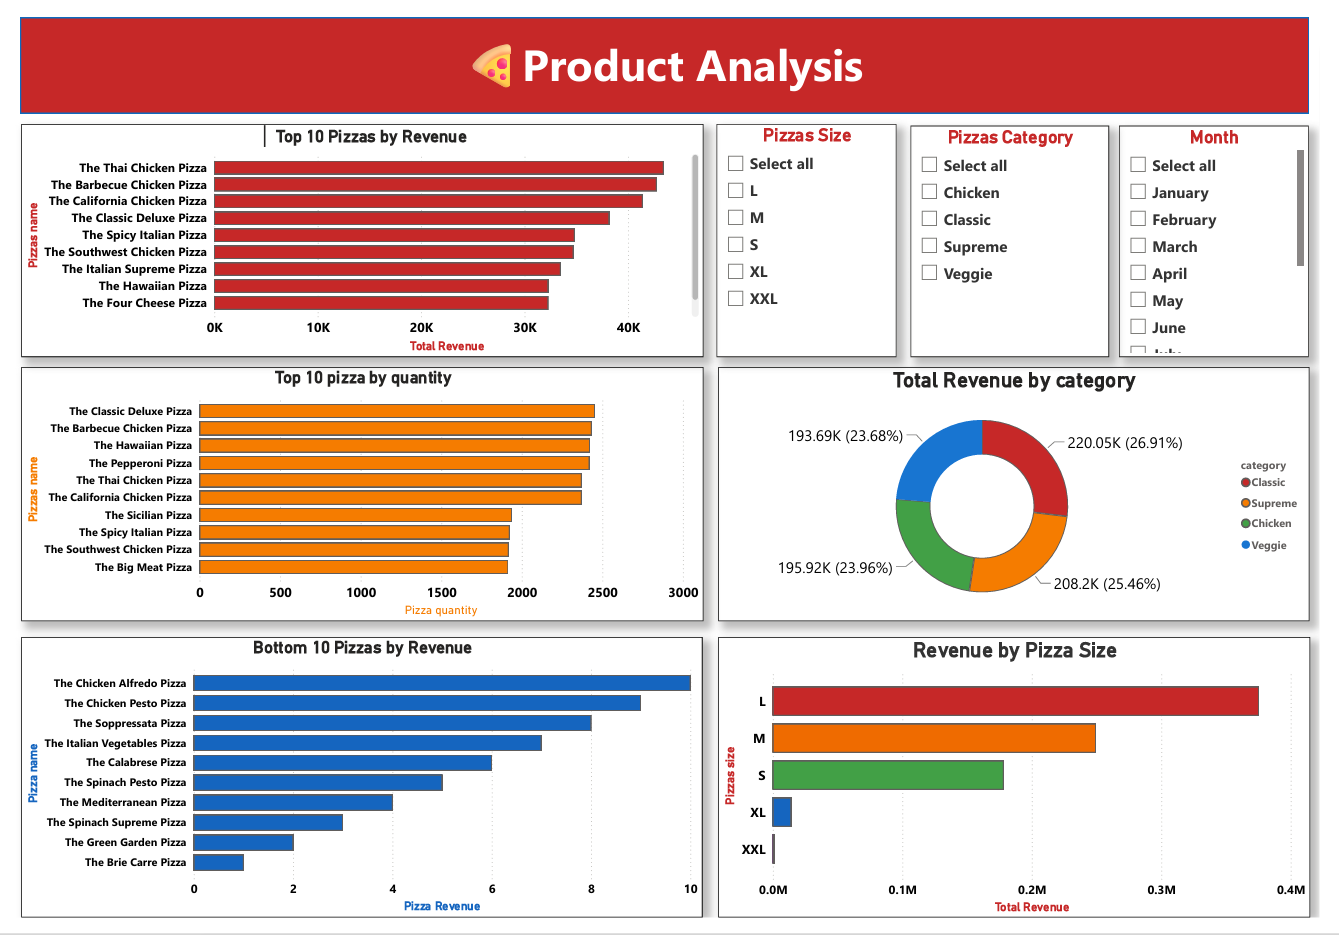

The dashboard page shown, as its layout file describes it:
{"tool":"powerbi","page":{"name":"Product Analysis","canvas":[1600,1100],"ordinal":1},"visuals":[{"type":"shape","box":[11.7,0,1575,116.7],"z":0},{"type":"textbox","box":[201.3,14.7,1193,86],"z":1000},{"type":"clusteredBarChart","title":"│ Top 10 Pizzas by Revenue ","fields":{"Y":["order_details.Total Revenue"],"Category":["pizza_types.name"]},"box":[13.3,130,833.3,285],"z":2000},{"type":"clusteredBarChart","title":"Top 10 pizza by quantity","fields":{"Category":["pizza_types.name"],"Y":["Sum(order_details.quantity)"]},"box":[13.3,426.7,833.3,311.7],"z":3000},{"type":"clusteredBarChart","title":"Bottom 10 Pizzas by Revenue","fields":{"Category":["pizza_types.name"],"Y":["order_details.Revenue Rank (Asc)"]},"box":[13,756.5,832.6,343.5],"z":4000},{"type":"donutChart","fields":{"Y":["order_details.Total Revenue"],"Category":["pizza_types.category"]},"box":[865,426.7,723.3,311.7],"z":5000},{"type":"barChart","title":"  Revenue by Pizza Size  ","fields":{"Y":["order_details.Total Revenue"],"Category":["pizzas.size"]},"box":[865.2,756.5,723.9,343.5],"z":6000},{"type":"slicer","title":"Pizzas Category","fields":{"Values":["pizza_types.category"]},"box":[1100,131.7,243.3,283.3],"z":7000},{"type":"slicer","title":"Pizzas Size","fields":{"Values":["pizzas.size"]},"box":[863.3,130,220,285],"z":8000},{"type":"slicer","title":"Month","fields":{"Values":["orders.Month Name"]},"box":[1355,131.7,231.7,283.3],"z":9000}]}

Visuals, with their boxes in screenshot pixels (x1, y1, x2, y2), scaled from the page's 1600x1100 canvas onto the 1339x936 screenshot:
shape: box=[10, 0, 1328, 99]
textbox: box=[168, 13, 1167, 86]
"│ Top 10 Pizzas by Revenue " clusteredBarChart: box=[11, 111, 708, 353]
"Top 10 pizza by quantity" clusteredBarChart: box=[11, 363, 708, 628]
"Bottom 10 Pizzas by Revenue" clusteredBarChart: box=[11, 644, 708, 935]
donutChart - order_details.Total Revenue x pizza_types.category: box=[724, 363, 1329, 628]
"  Revenue by Pizza Size  " barChart: box=[724, 644, 1330, 935]
"Pizzas Category" slicer: box=[921, 112, 1124, 353]
"Pizzas Size" slicer: box=[722, 111, 907, 353]
"Month" slicer: box=[1134, 112, 1328, 353]
